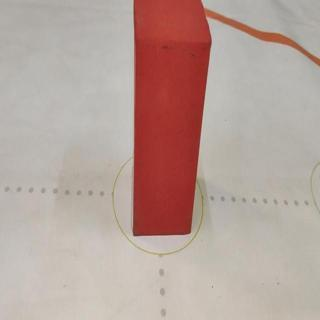redbox: (131, 0, 212, 235)
